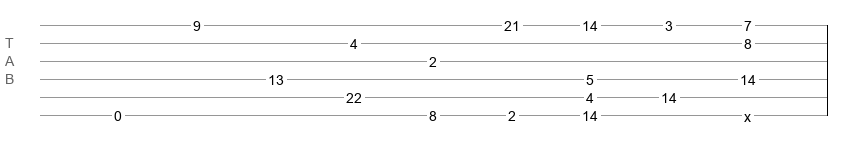0: (114, 108, 122, 118)
13: (268, 72, 284, 82)
14: (582, 18, 598, 28), (582, 108, 598, 118), (661, 90, 677, 100), (740, 72, 756, 82)
2: (429, 54, 437, 64), (508, 108, 516, 118)
21: (504, 18, 520, 28)
22: (346, 90, 362, 100)
3: (665, 18, 673, 28)
4: (350, 36, 358, 46), (586, 90, 594, 100)
5: (586, 72, 594, 82)
7: (744, 18, 752, 28)
8: (429, 108, 437, 118), (744, 36, 752, 46)
9: (193, 18, 201, 28)
x: (744, 109, 751, 117)
